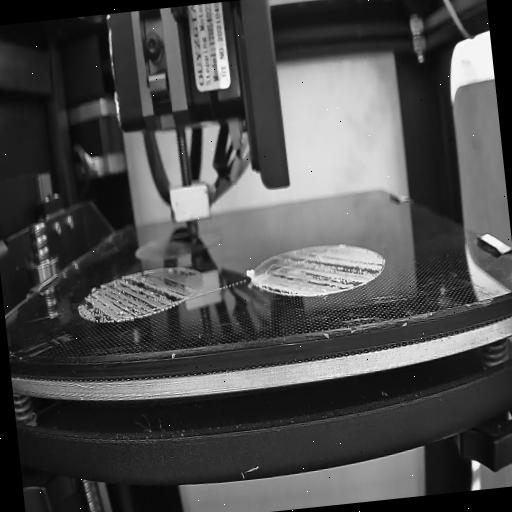under_extrusion: (75, 265, 204, 326), (259, 248, 387, 298)
